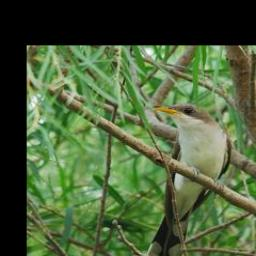Cuckoo: (145, 102, 231, 256)
